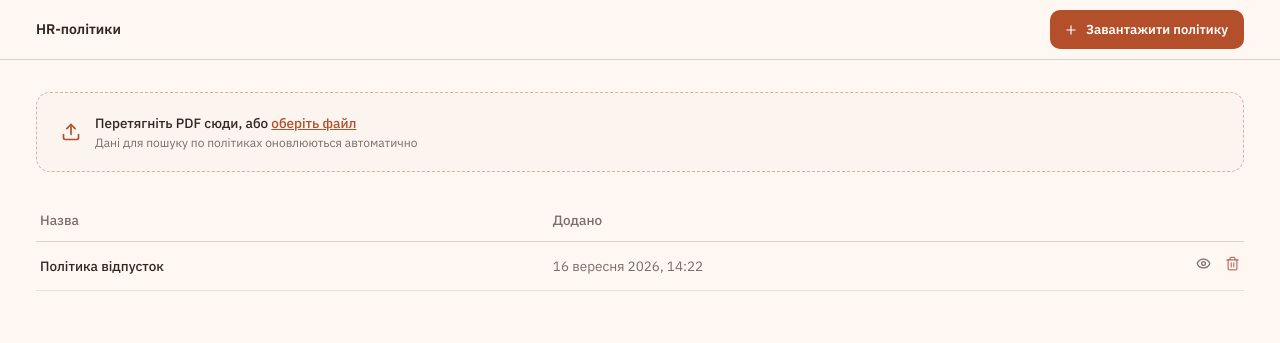
Test: PoliciesPage › shows a generic error for any other failure
expect the text "Політика відпусток" is shown: met, box left=36, top=241, right=549, bottom=290
Click the button named "Переглянути політику Політика відпусток": (1204, 263) left=1196, top=256, right=1211, bottom=270
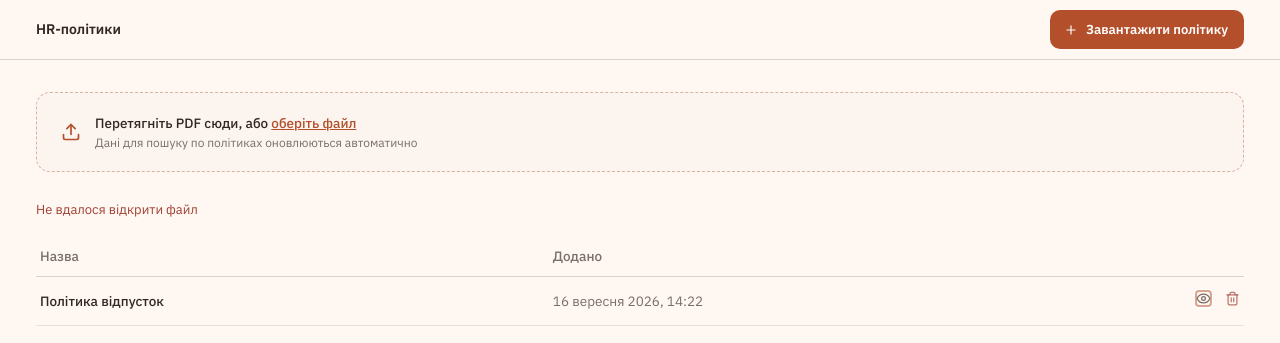
expect the text "Не вдалося відкрити файл" is shown: met, box left=36, top=201, right=198, bottom=218
